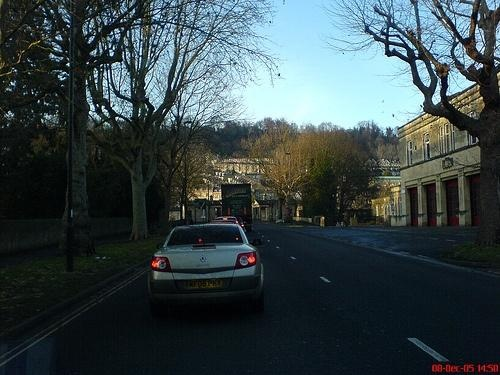car: (150, 223, 266, 311)
